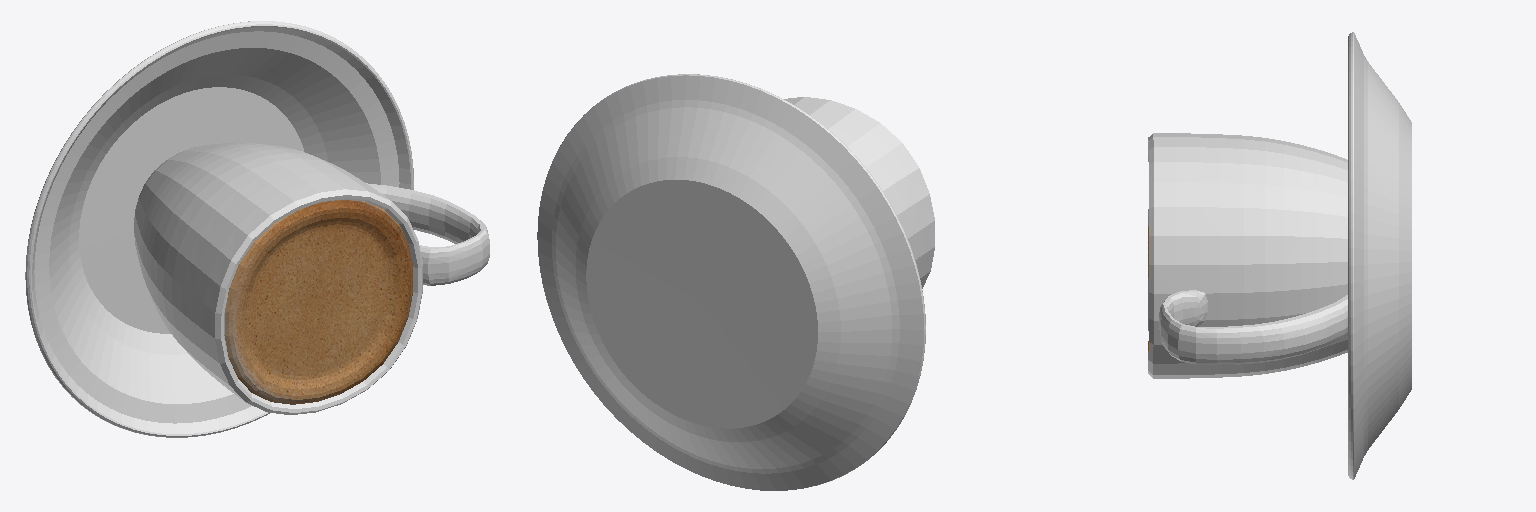
3 renders of one model, left to right at view 1: azimuth 30°, elevation 25°; view 2: azimuth 150°, elevation 25°; view 3: azimuth 270°, elevation 25°, orthographic.
Parts seen in each view (by area): view 1: round_plate:group1 round_plate:round_plate_group2 round_plate:ro, cup_1:group1 cup_1:polySurface6 polySurface4, cup_1:group1 cup_1:polySurface6 polySurface5 polySurface2; view 2: round_plate:group1 round_plate:round_plate_group2 round_plate:ro, cup_1:group1 cup_1:polySurface6 polySurface4; view 3: cup_1:group1 cup_1:polySurface6 polySurface4, round_plate:group1 round_plate:round_plate_group2 round_plate:ro.
Boxes of the visible parts, x1,y1,x2,y2 form: round_plate:group1 round_plate:round_plate_group2 round_plate:ro: [25, 21, 413, 437]; cup_1:group1 cup_1:polySurface6 polySurface4: [134, 143, 489, 414]; cup_1:group1 cup_1:polySurface6 polySurface5 polySurface2: [224, 199, 412, 404]; round_plate:group1 round_plate:round_plate_group2 round_plate:ro: [537, 74, 925, 490]; cup_1:group1 cup_1:polySurface6 polySurface4: [784, 97, 934, 288]; cup_1:group1 cup_1:polySurface6 polySurface4: [1148, 133, 1347, 378]; round_plate:group1 round_plate:round_plate_group2 round_plate:ro: [1348, 32, 1411, 479].
Bounding box in the file's own units: 11.06 × 11.06 × 6.5.
3 materials, 1 textured.